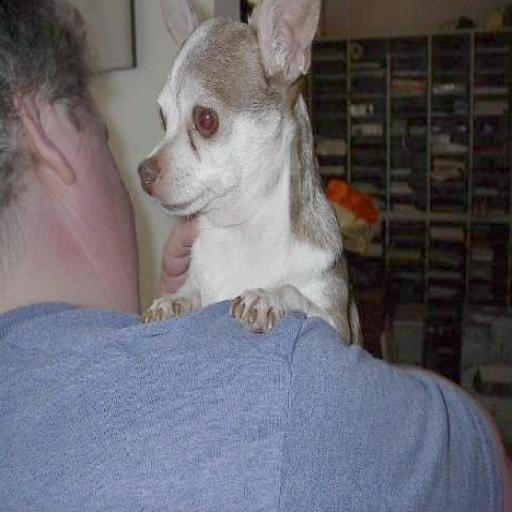dog_face: (137, 3, 328, 215)
